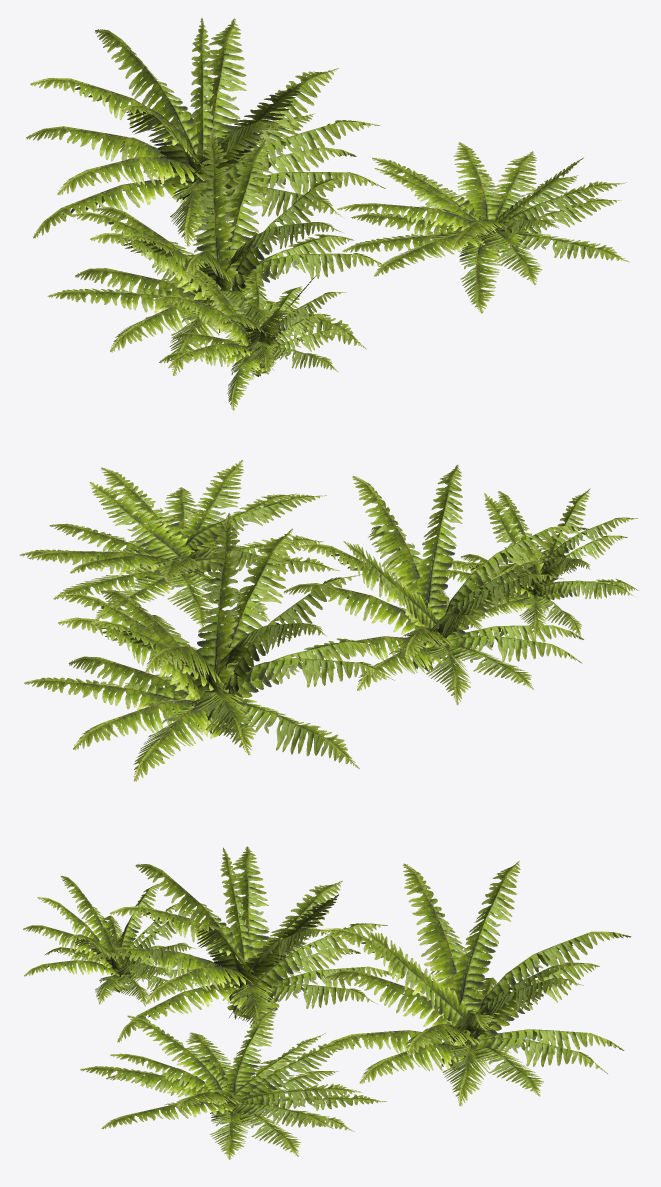
The model's file is fern_grass_02.glb.
3 views of the same model, one above another, from view 1: azimuth 30°, elevation 25°; view 2: azimuth 150°, elevation 25°; view 3: azimuth 270°, elevation 25° (orthographic). The views are drawn at different scales.
Parts seen in each view (by area): view 1: Object_2; view 2: Object_2; view 3: Object_2.
Part boxes in pixels (x1,y1,x2,y2): Object_2: (26,18,629,410); Object_2: (19,460,638,781); Object_2: (23,846,631,1159).
Size of the model in its own units: 1.86 by 0.65 by 2.
1 material, 1 textured.
